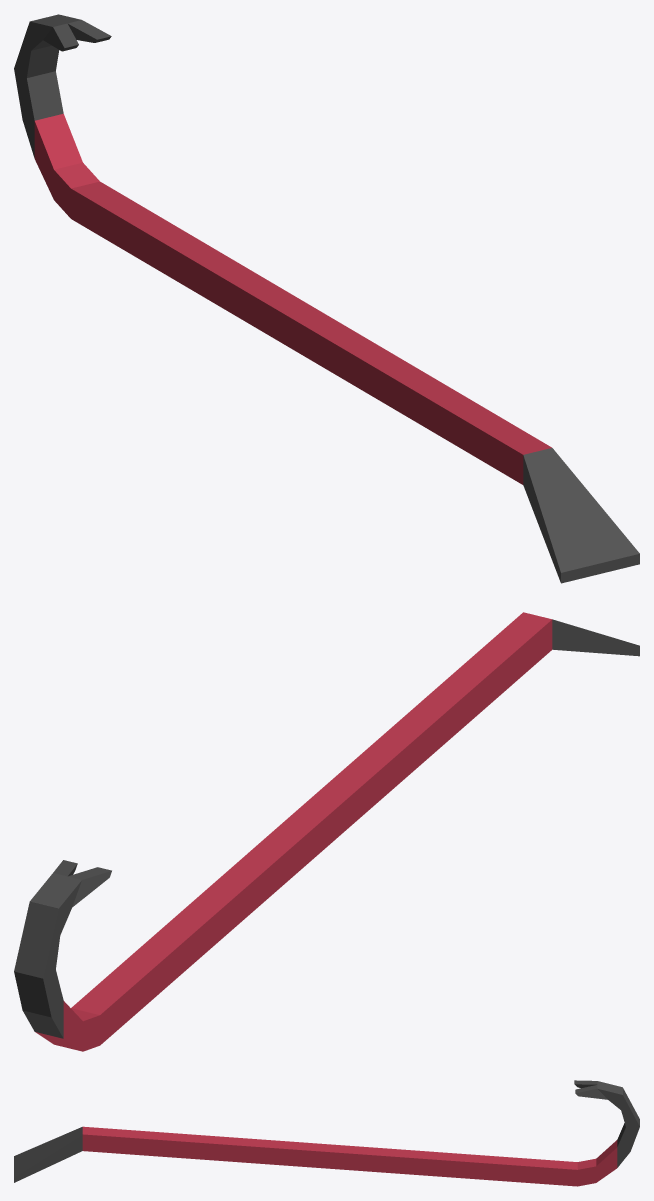
Rendered from Crowbar_Texture.fbx.
3 views of the same model, one above another, from view 1: azimuth 30°, elevation 25°; view 2: azimuth 150°, elevation 25°; view 3: azimuth 270°, elevation 25° (orthographic). The views are drawn at different scales.
Visible parts, largest first — view 1: pCube1; view 2: pCube1; view 3: pCube1.
Part boxes in pixels (box(x1,y1,x2,y2)): pCube1: box(14, 14, 639, 583); pCube1: box(14, 612, 639, 1051); pCube1: box(14, 1080, 639, 1186).
Bounding box in the file's own units: 0.0407 × 0.0881 × 0.511.
